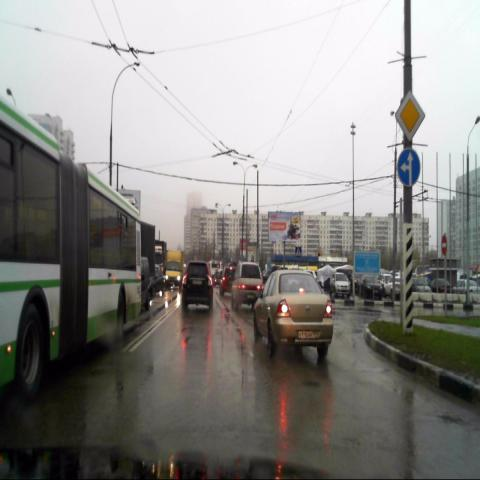4_1_5: (398, 148, 420, 186)
